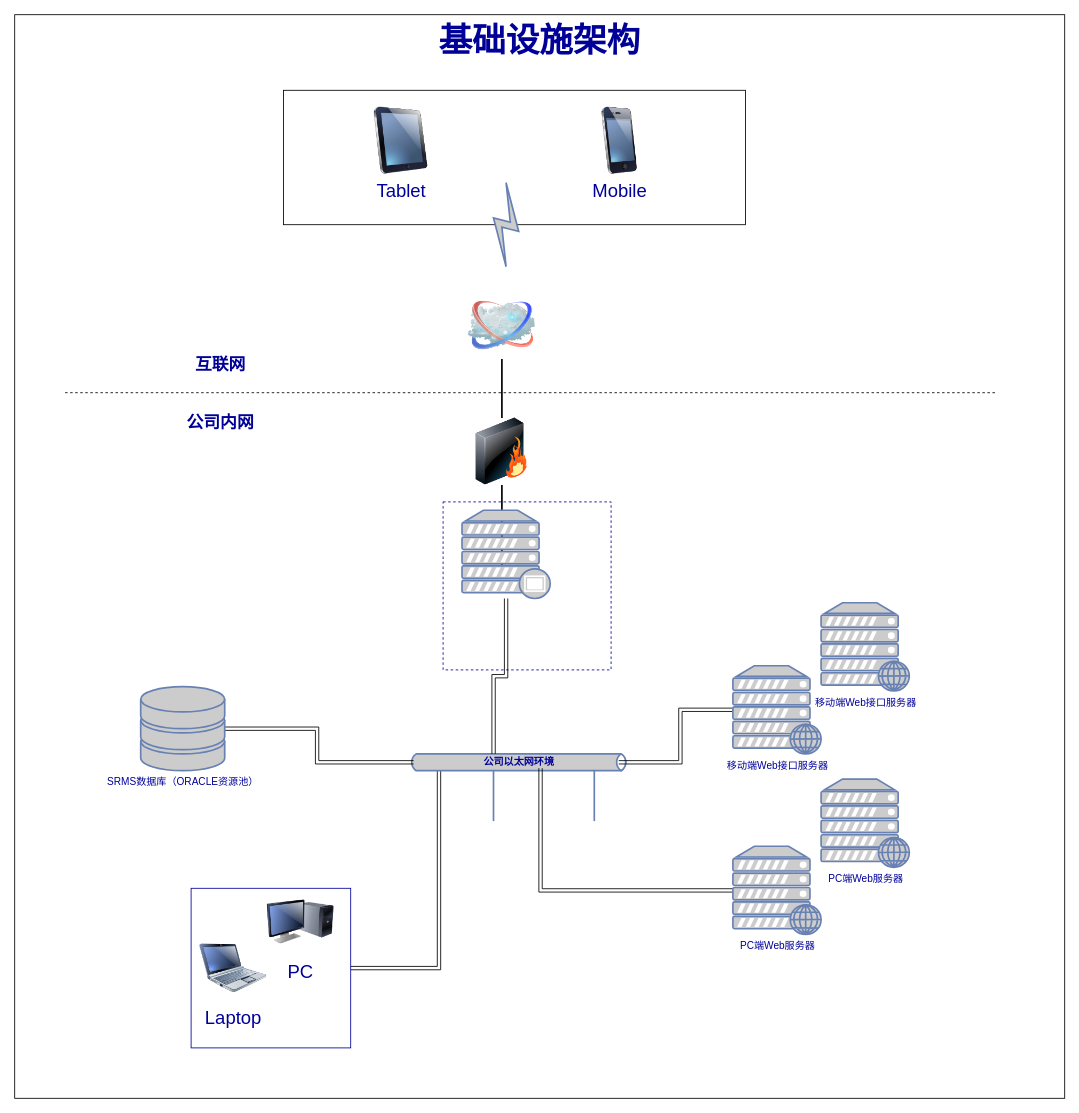
The diagram is 1079 pixels wide and 1113 high, and some of its shapes have lost their labels. The shapes that lost their labels are listed below. From the top down, each one's box as (x1, y1, x2, y2) in pixels, then its label:
(468, 291, 535, 359): Internet
(468, 417, 535, 485): Firewall
(461, 509, 551, 599): Nginx反向代理服务器
(442, 501, 611, 670): DMZ区
(190, 887, 351, 1048): PC端内网用户设备
